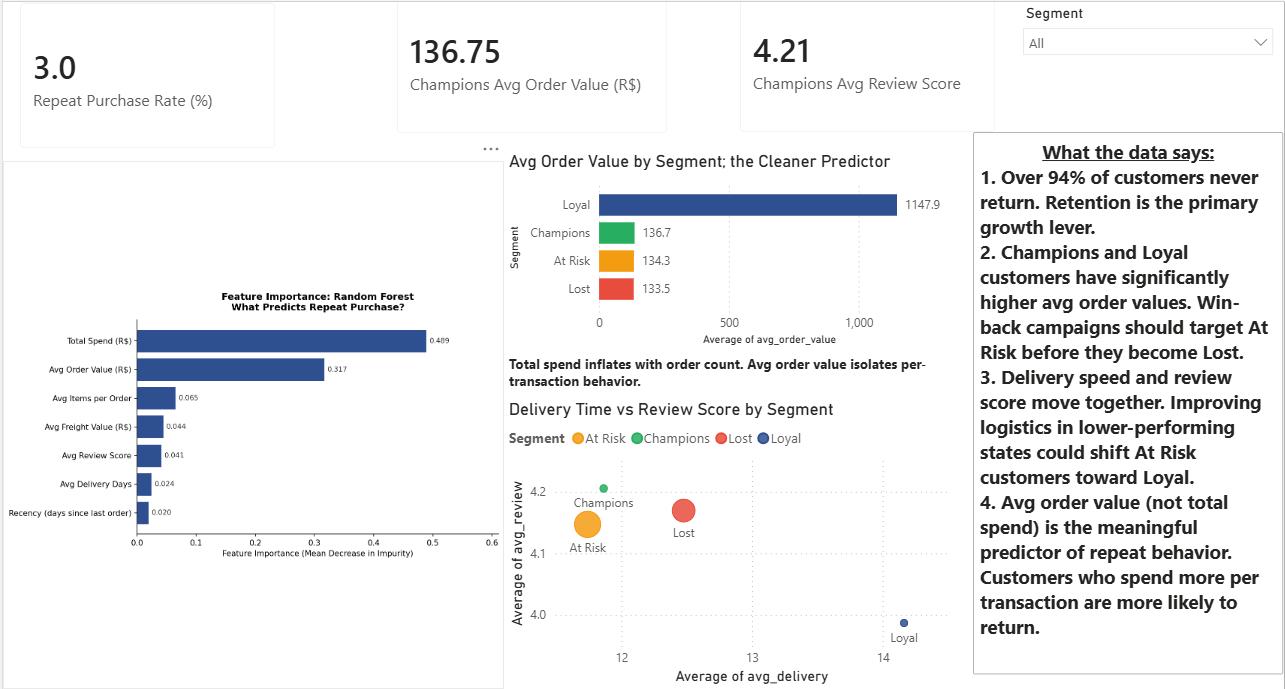

What the dashboard file says about the page in this screenshot:
{"tool":"powerbi","page":{"name":"What Predicts Repeat Purchase?","canvas":[1280,720],"ordinal":2},"visuals":[{"type":"cardVisual","fields":{"Data":["olist_customers_rfm.Repeat Rate"]},"box":[0,17,289.8,179.9],"z":0},{"type":"cardVisual","fields":{"Data":["olist_customers_rfm.Avg OV Champions"]},"box":[376.4,1,304.4,180.9],"z":1},{"type":"cardVisual","fields":{"Data":["olist_customers_rfm.Avg Review Champions"]},"box":[719.8,0,289.8,180.9],"z":2},{"type":"textbox","box":[1020,0,260,181],"z":6},{"type":"textbox","box":[969.7,162.4,310.3,541.8],"z":7},{"type":"clusteredBarChart","title":"Avg Order Value by Segment; the Cleaner Predictor","fields":{"Category":["olist_customers_rfm.Segment"],"Y":["Avg(olist_customers_rfm.avg_order_value)"]},"box":[500.6,181.9,455.6,198.8],"z":8},{"type":"scatterChart","title":"Delivery Time vs Review Score by Segment","fields":{"X":["Avg(olist_customers_rfm.avg_delivery)"],"Y":["Avg(olist_customers_rfm.avg_review)"],"Size":["Count(olist_customers_rfm.customer_unique_id)"],"Series":["olist_customers_rfm.Segment"]},"box":[500.6,429.7,455.6,289.8],"z":9},{"type":"textbox","box":[500.9,380.3,455.2,49.6],"z":10},{"type":"slicer","fields":{"Values":["olist_customers_rfm.Segment"]},"box":[1009.6,31.1,270.4,75.9],"z":11},{"type":"image","box":[0,191.9,500.6,527.6],"z":12}]}

Visuals, with their boxes on the page's 1280x720 design canvas (x1, y1, x2, y2). These are canvas units, not pixel positions in the 1285x689 screenshot, which may show the page scaled, cropped or inside an application window:
cardVisual - olist_customers_rfm.Repeat Rate: locate(0, 17, 290, 197)
cardVisual - olist_customers_rfm.Avg OV Champions: locate(376, 1, 681, 182)
cardVisual - olist_customers_rfm.Avg Review Champions: locate(720, 0, 1010, 181)
textbox: locate(1020, 0, 1280, 181)
textbox: locate(970, 162, 1280, 704)
"Avg Order Value by Segment; the Cleaner Predictor" clusteredBarChart: locate(501, 182, 956, 381)
"Delivery Time vs Review Score by Segment" scatterChart: locate(501, 430, 956, 720)
textbox: locate(501, 380, 956, 430)
slicer - olist_customers_rfm.Segment: locate(1010, 31, 1280, 107)
image: locate(0, 192, 501, 720)
